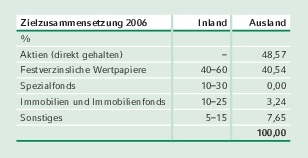table: (0, 0, 308, 158)
